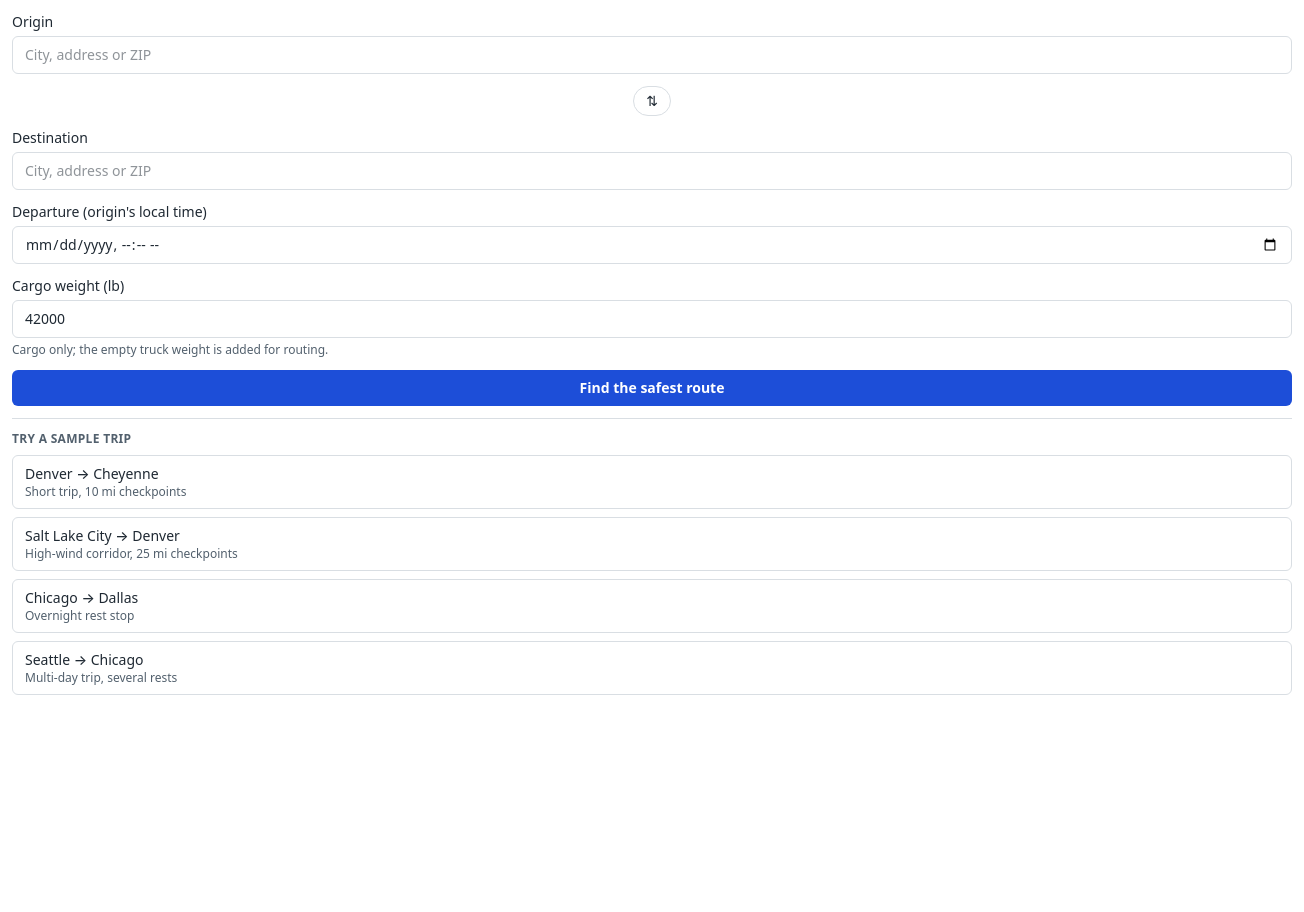
Scenario: sample trips › one click fills the form and searches with the next full hour at the origin
Click the button "Chicago → Dallas Overnight rest stop" at (82, 598), box [12,579,1292,633]
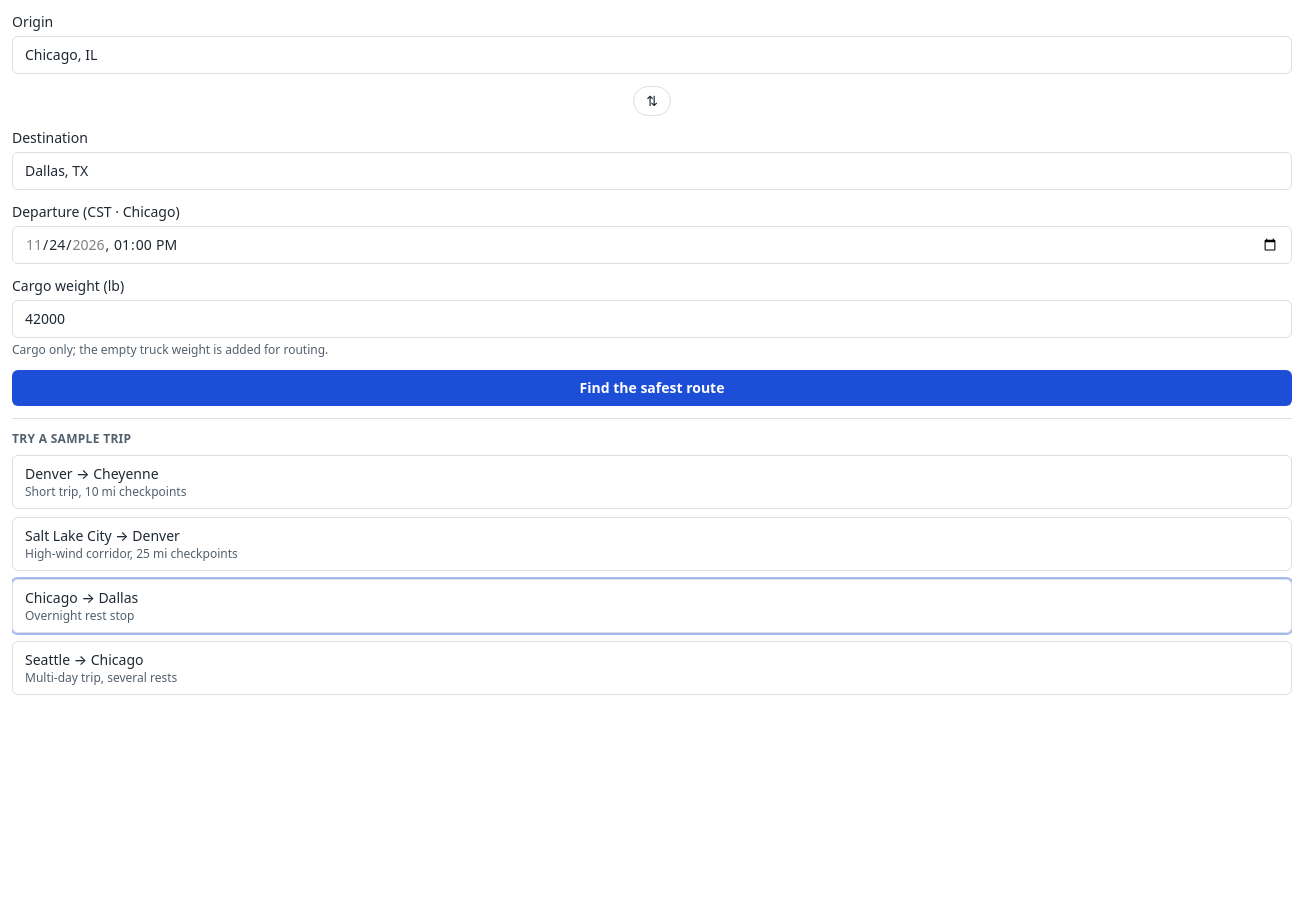
Expected: the dropdown labelled "Origin" holds "Chicago, IL", [12,36,1292,74]
